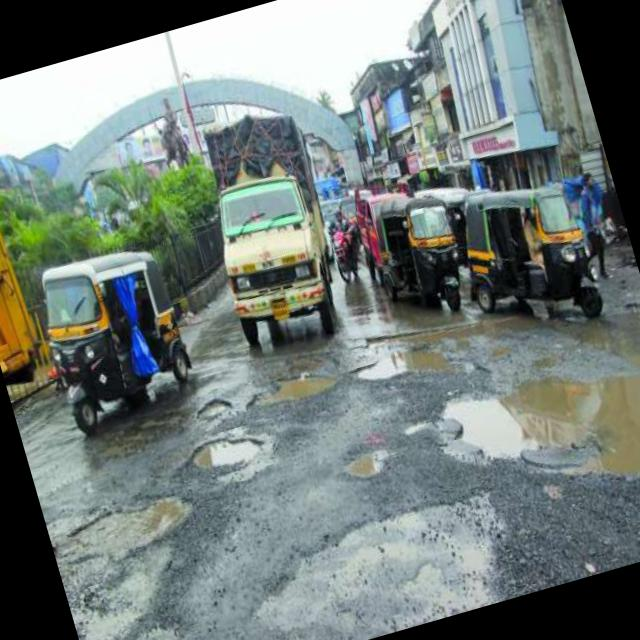Potholes: (416, 301, 640, 549), (334, 284, 552, 418), (39, 460, 212, 594), (241, 352, 347, 425), (180, 416, 280, 491), (332, 424, 408, 499), (188, 382, 238, 426)
